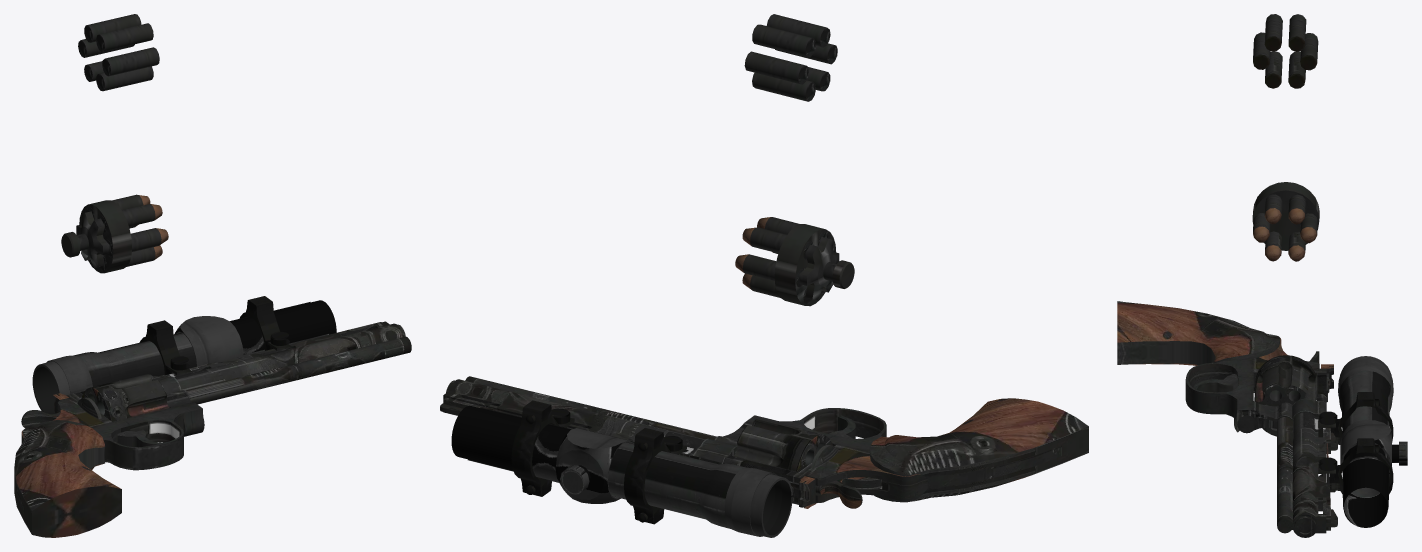
The model's file is t5_weapon_coltpython_viewmodel.glb.
3 renders of one model, left to right at view 1: azimuth 30°, elevation 25°; view 2: azimuth 150°, elevation 25°; view 3: azimuth 270°, elevation 25°, orthographic. The views are drawn at different scales.
Visible parts, largest first — view 1: t5_weapon_coltpython_viewmodel; view 2: t5_weapon_coltpython_viewmodel; view 3: t5_weapon_coltpython_viewmodel.
Part boxes in pixels (box(x1,y1,x2,y2)): t5_weapon_coltpython_viewmodel: box(14, 14, 411, 537); t5_weapon_coltpython_viewmodel: box(440, 14, 1088, 537); t5_weapon_coltpython_viewmodel: box(1117, 14, 1407, 537).
Size of the model in its own units: 0.4292 by 0.3751 by 0.2442.
6 materials, 5 textured.
